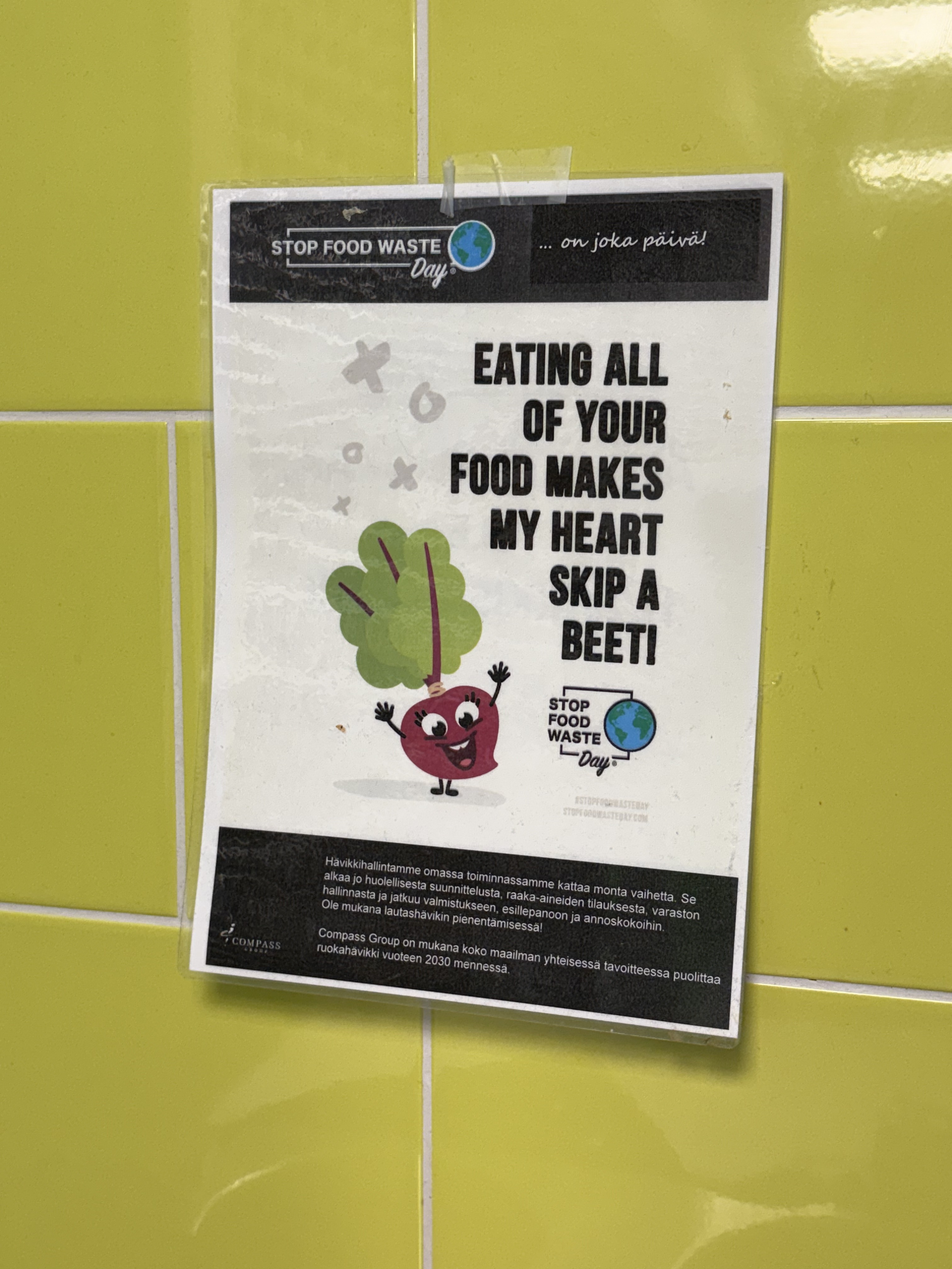paper: (188, 167, 783, 1047)
